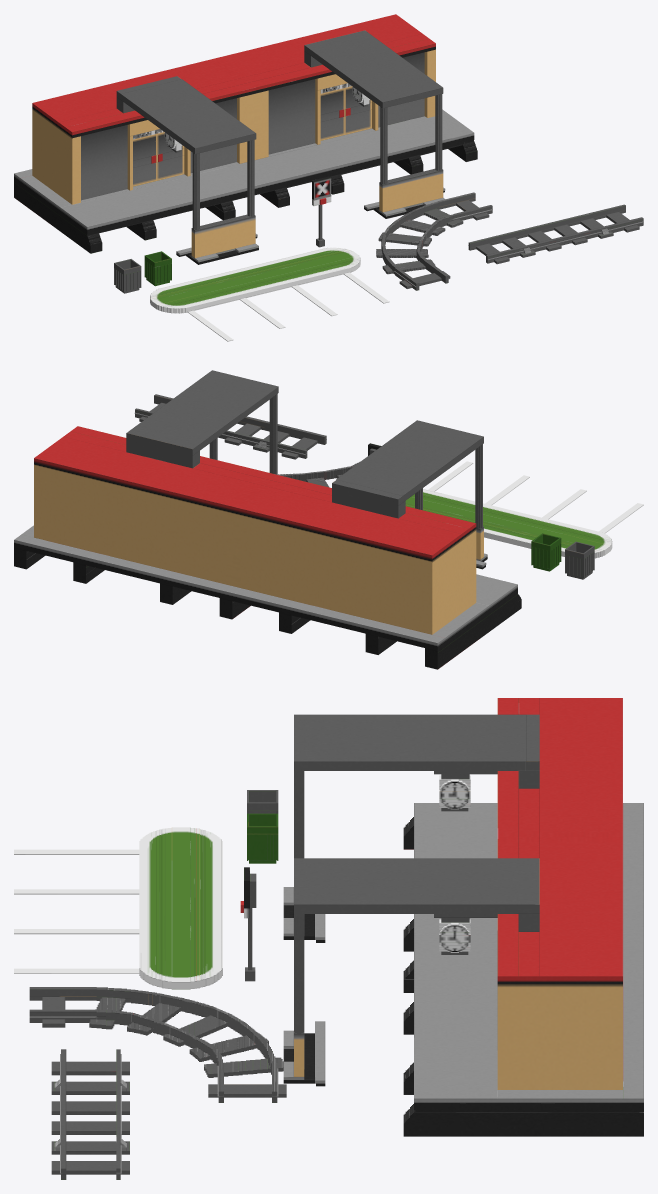
File: Environment_02.fbx
3 renders of one model, top to bottom at view 1: azimuth 30°, elevation 25°; view 2: azimuth 150°, elevation 25°; view 3: azimuth 270°, elevation 25°, orthographic. The views are drawn at different scales.
Visible parts, largest first — view 1: Train_station, Parking, Railway_01, Railway_02, Bin_02, Bin_01, Traffic_light_02; view 2: Train_station, Parking, Railway_02, Bin_02, Bin_01, Railway_01; view 3: Train_station, Parking, Railway_01, Railway_02, Bin_02, Traffic_light_02, Bin_01.
Boxes of the visible parts, left/top/right/bottom form: Train_station: left=14, top=14, right=477, bottom=264; Parking: left=150, top=247, right=389, bottom=341; Railway_01: left=376, top=192, right=492, bottom=290; Railway_02: left=468, top=204, right=643, bottom=264; Bin_02: left=144, top=251, right=171, bottom=286; Bin_01: left=114, top=259, right=141, bottom=293; Traffic_light_02: left=312, top=176, right=331, bottom=247; Train_station: left=14, top=370, right=521, bottom=669; Parking: left=405, top=461, right=643, bottom=558; Railway_02: left=134, top=394, right=326, bottom=459; Bin_02: left=531, top=533, right=561, bottom=571; Bin_01: left=565, top=541, right=594, bottom=579; Railway_01: left=278, top=462, right=359, bottom=487; Train_station: left=283, top=698, right=643, bottom=1136; Parking: left=14, top=827, right=222, bottom=989; Railway_01: left=29, top=987, right=286, bottom=1102; Railway_02: left=51, top=1049, right=129, bottom=1179; Bin_02: left=247, top=813, right=278, bottom=863; Traffic_light_02: left=240, top=867, right=256, bottom=981; Bin_01: left=247, top=790, right=278, bottom=813.
Size of the model in its own units: 797 by 189 by 603.
